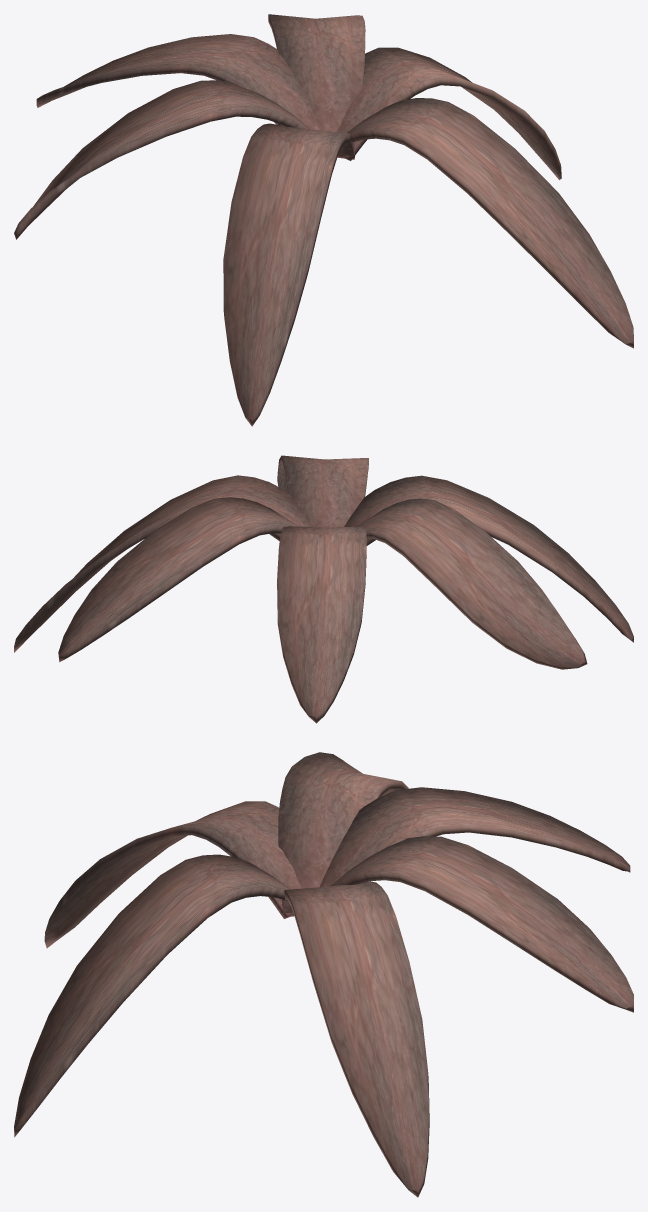
The model's file is calyx10_sb1_b.dae.
3 renders of one model, top to bottom at view 1: azimuth 30°, elevation 25°; view 2: azimuth 150°, elevation 25°; view 3: azimuth 270°, elevation 25°, orthographic. The views are drawn at different scales.
Visible parts, largest first — view 1: calyx9_002, calyx9_001, calyx8_002, calyx6_002, calyx6_003, calyx9; view 2: calyx8_002, calyx6_002, calyx6_003, calyx9_002, calyx9, calyx9_001; view 3: calyx9, calyx9_001, calyx6_003, calyx6_002, calyx9_002, calyx8_002.
Boxes of the visible parts, bbox=[...] form: calyx9_002: bbox=[223, 123, 355, 426]; calyx9_001: bbox=[342, 98, 633, 348]; calyx8_002: bbox=[14, 80, 338, 239]; calyx6_002: bbox=[36, 34, 320, 130]; calyx6_003: bbox=[268, 14, 365, 131]; calyx9: bbox=[337, 47, 561, 179]; calyx8_002: bbox=[355, 498, 587, 669]; calyx6_002: bbox=[277, 526, 366, 723]; calyx6_003: bbox=[58, 497, 298, 662]; calyx9_002: bbox=[344, 475, 633, 642]; calyx9: bbox=[14, 475, 311, 652]; calyx9_001: bbox=[277, 455, 368, 527]; calyx9: bbox=[282, 881, 429, 1197]; calyx9_001: bbox=[14, 854, 290, 1137]; calyx6_003: bbox=[330, 836, 633, 1012]; calyx6_002: bbox=[319, 787, 630, 887]; calyx9_002: bbox=[44, 801, 301, 948]; calyx8_002: bbox=[278, 752, 408, 888].
Bounding box in the file's own units: 0.1304 × 0.115 × 0.0455.
Materials: 6 (6 with a texture image).
